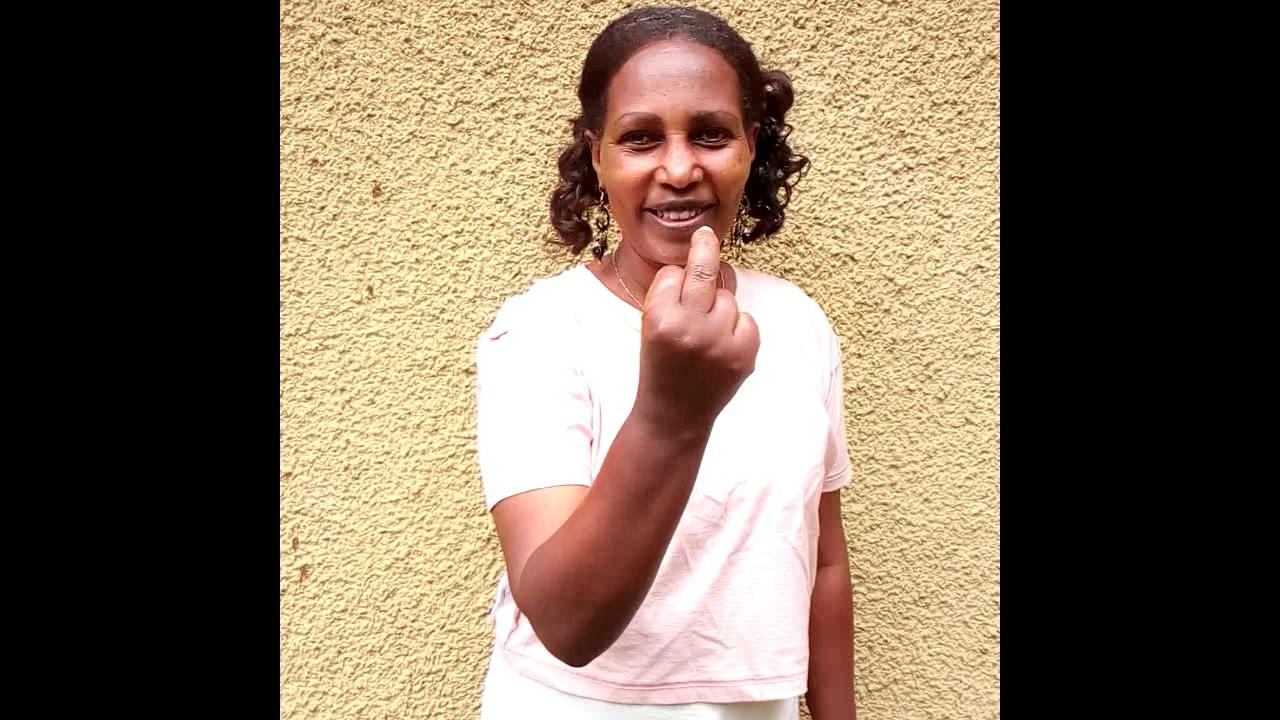CHE: (632, 228, 762, 510)
